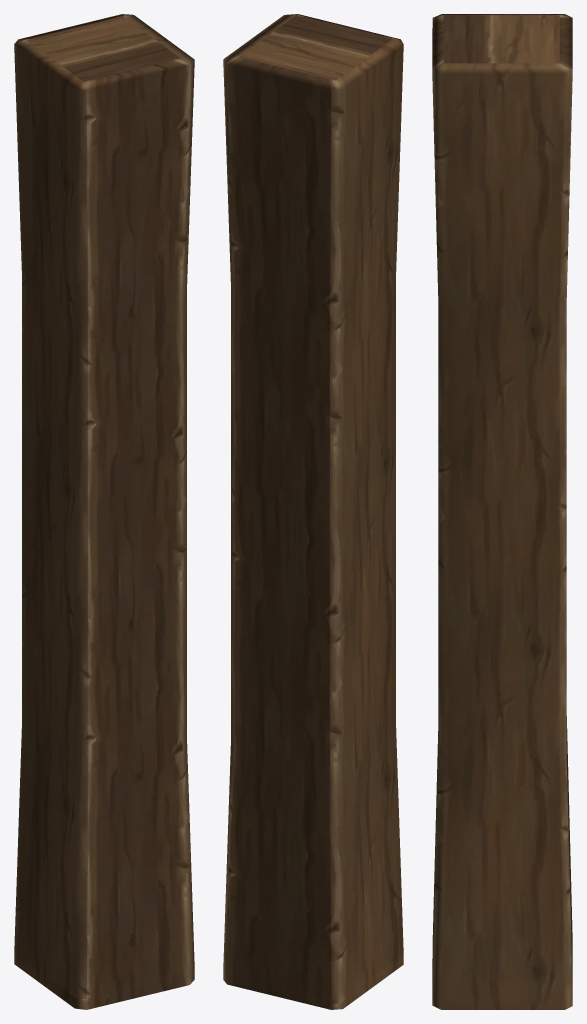
3 renders of one model, left to right at view 1: azimuth 30°, elevation 25°; view 2: azimuth 150°, elevation 25°; view 3: azimuth 270°, elevation 25°, orthographic.
Size of the model in its own units: 1.5 by 11.1 by 1.5.
1 material, 1 textured.
